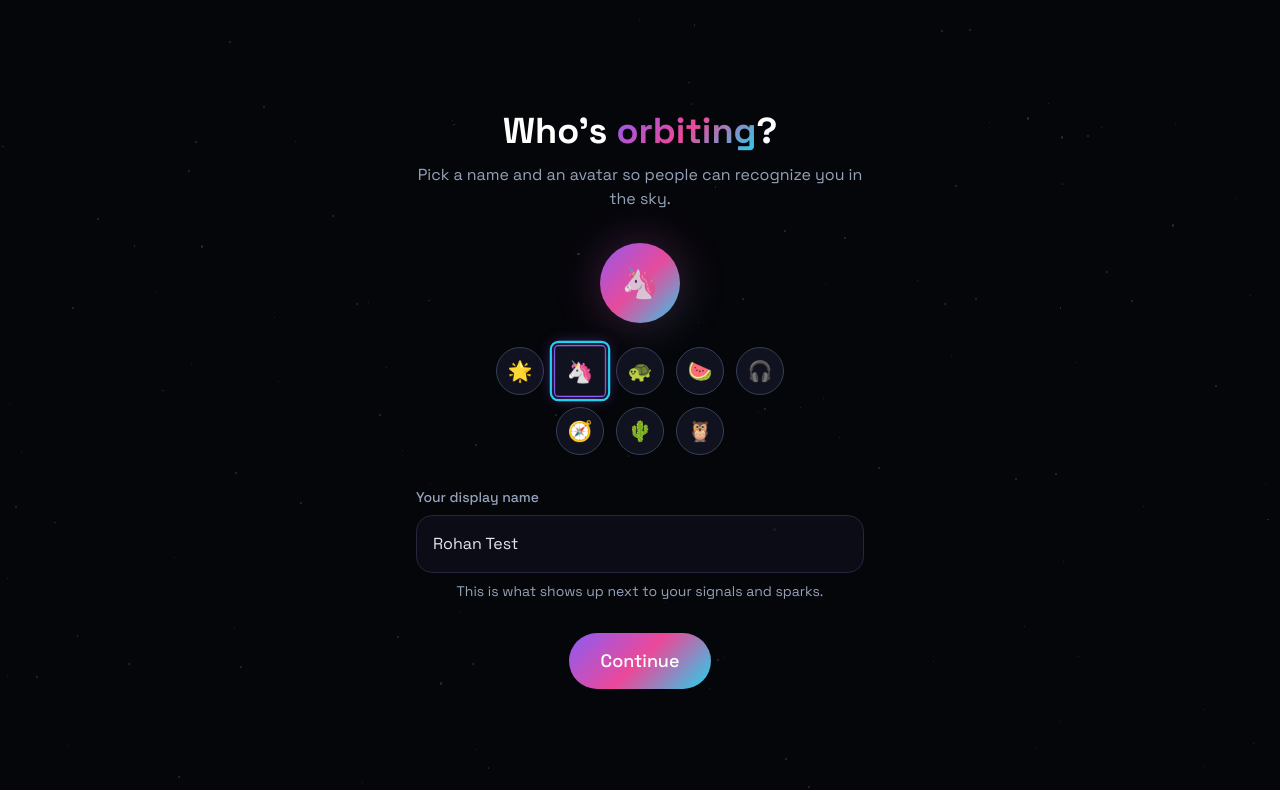
Test case: identity onboarding flow (real, executed run) › lets a person type their own name, pick an avatar, and see it reflected in Your Sky
Earlier steps of the test are not shown.
Click the button "Continue".
click(640, 661)  # box [569,633,711,689]
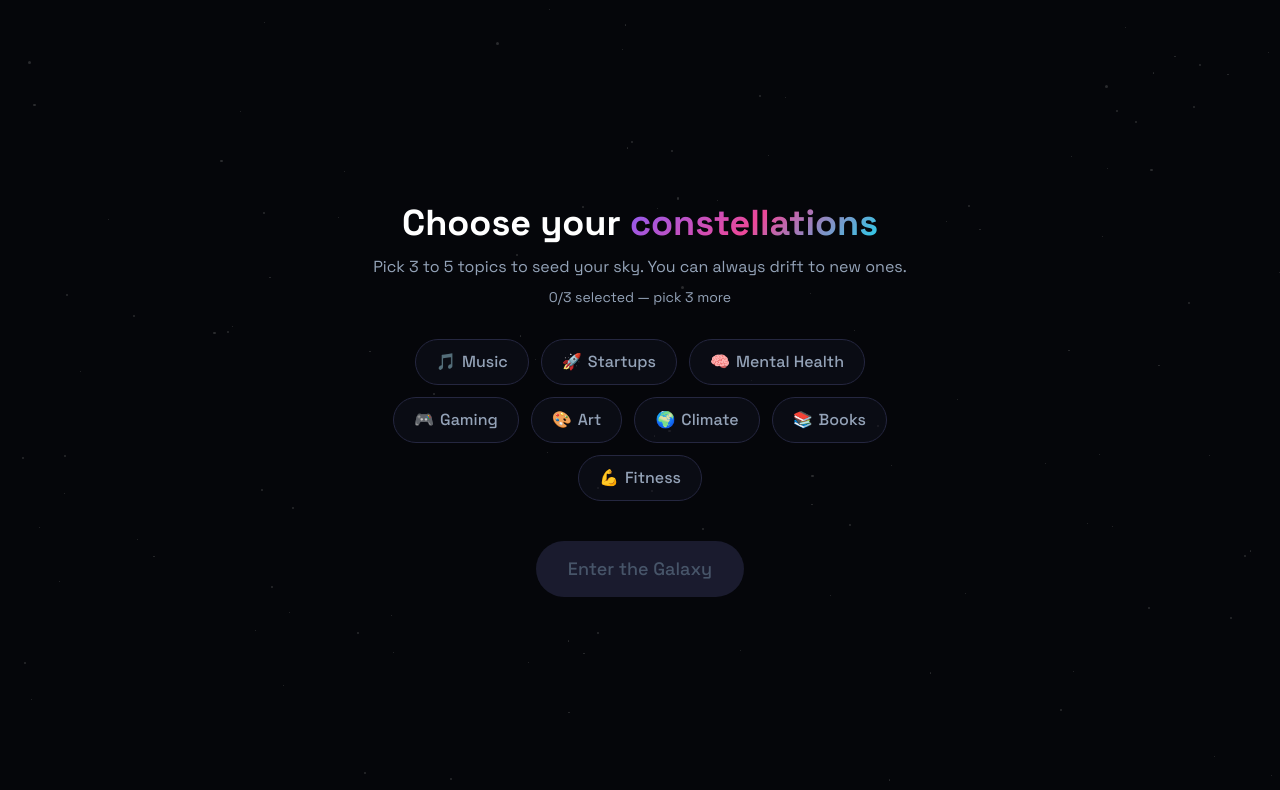
Click the button "🎵music".
click(472, 362)  # box [415,339,529,385]
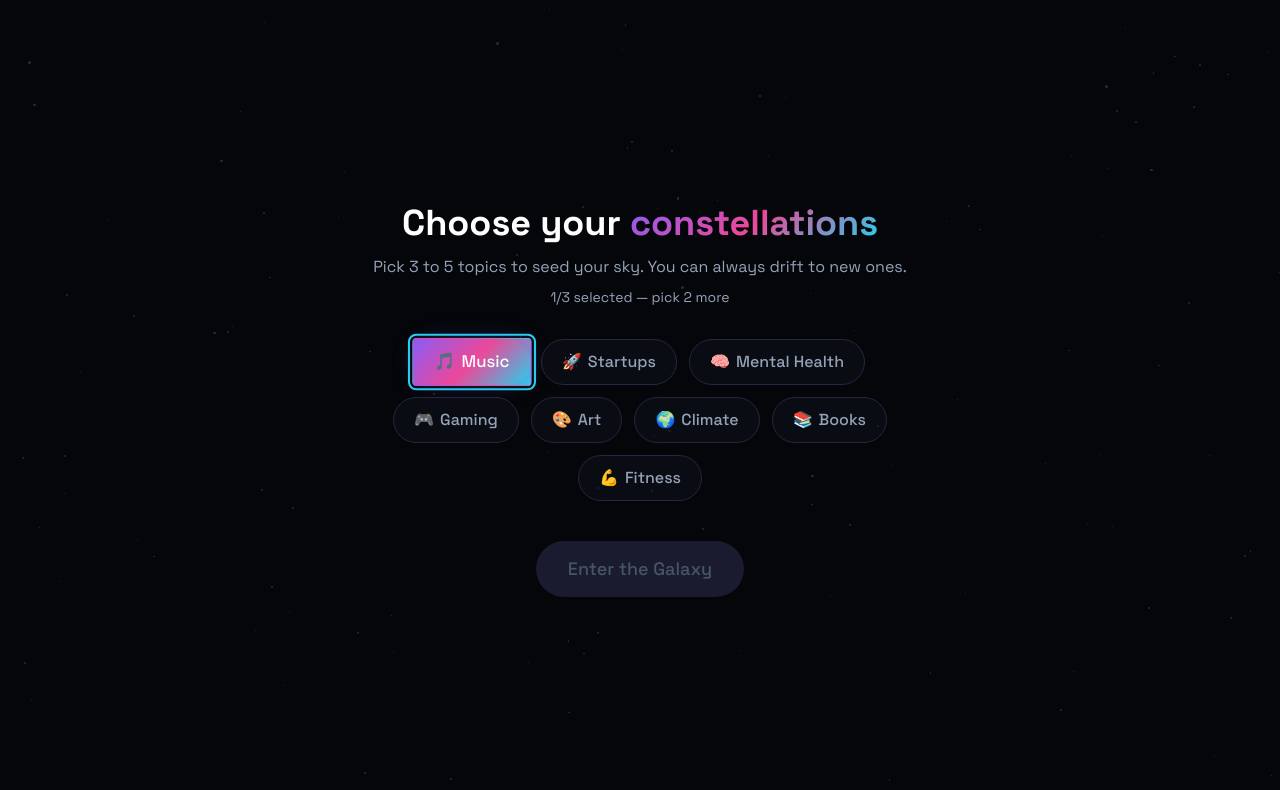
Click the button "🚀startups".
click(609, 362)  # box [541,339,677,385]
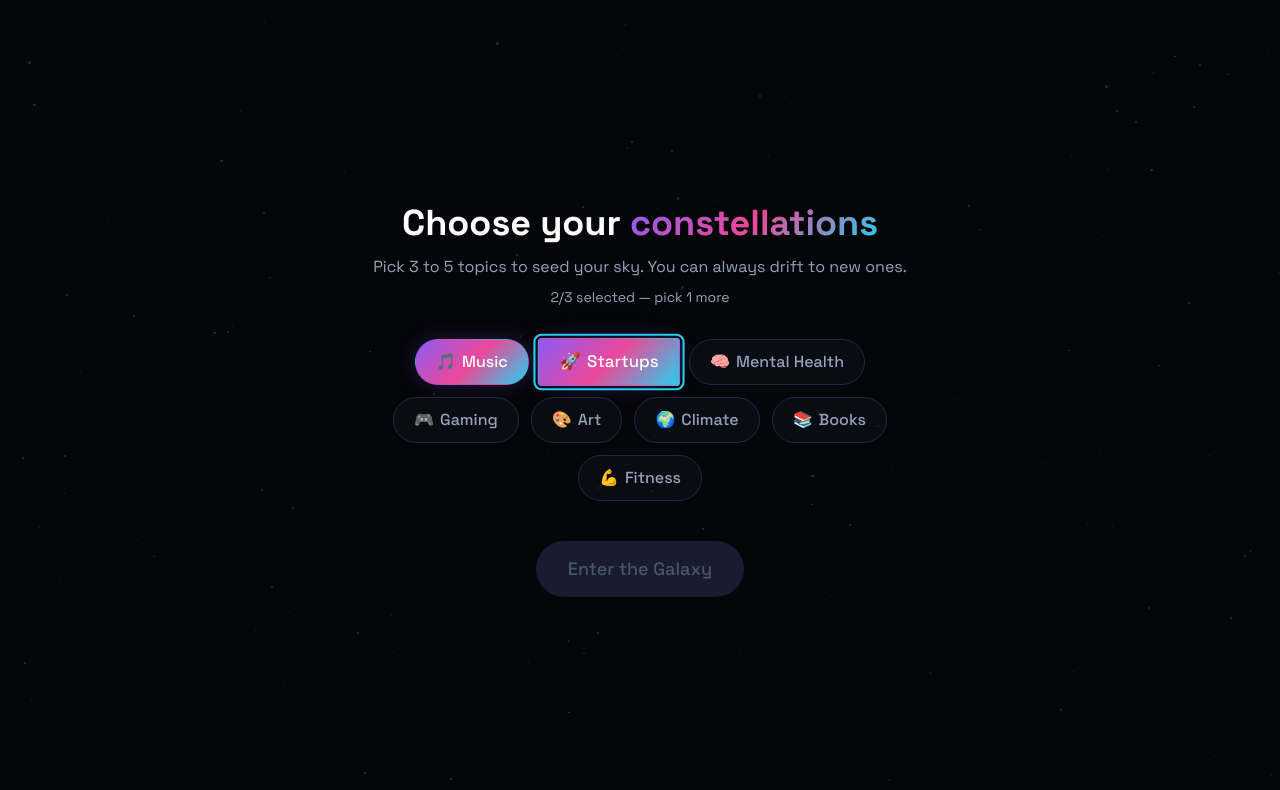
Click the button "🎮gaming".
click(456, 420)  # box [393,397,519,443]
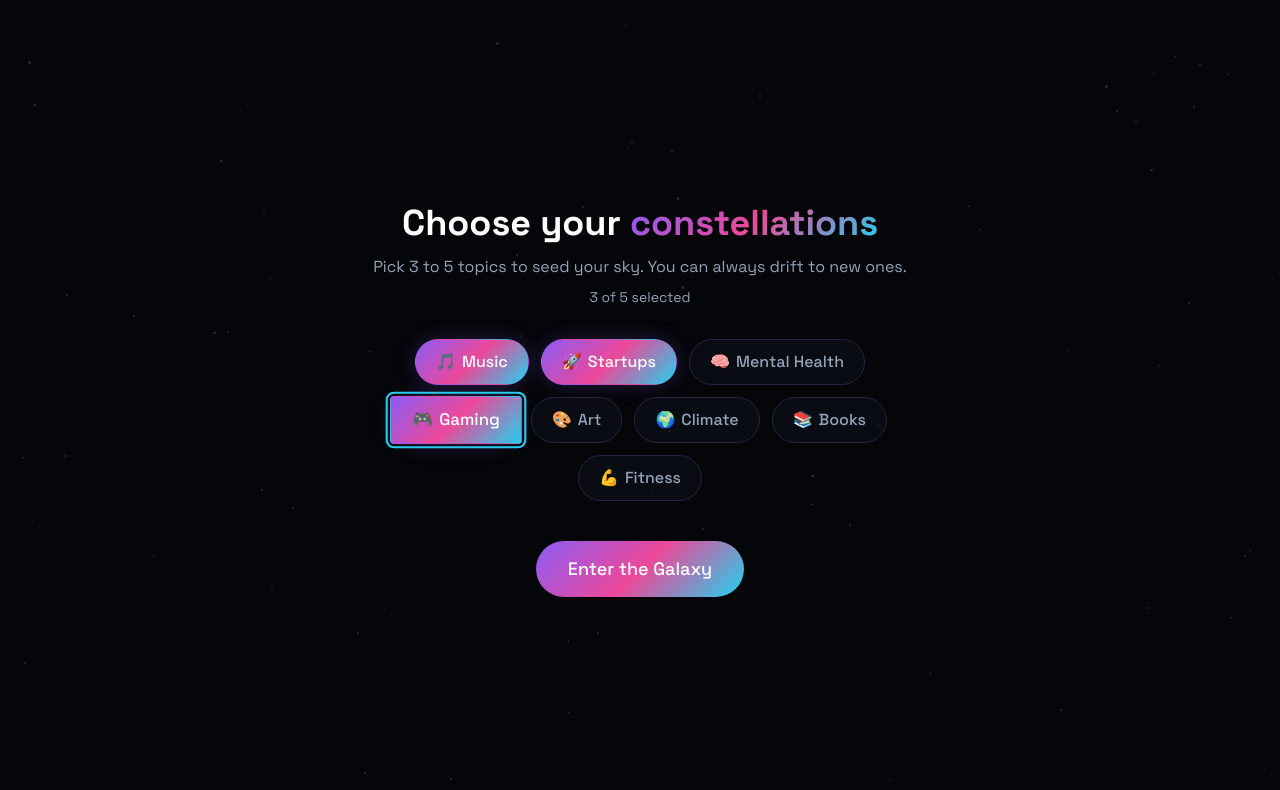
Click the button "Enter the Galaxy".
click(640, 569)  # box [536,541,744,597]
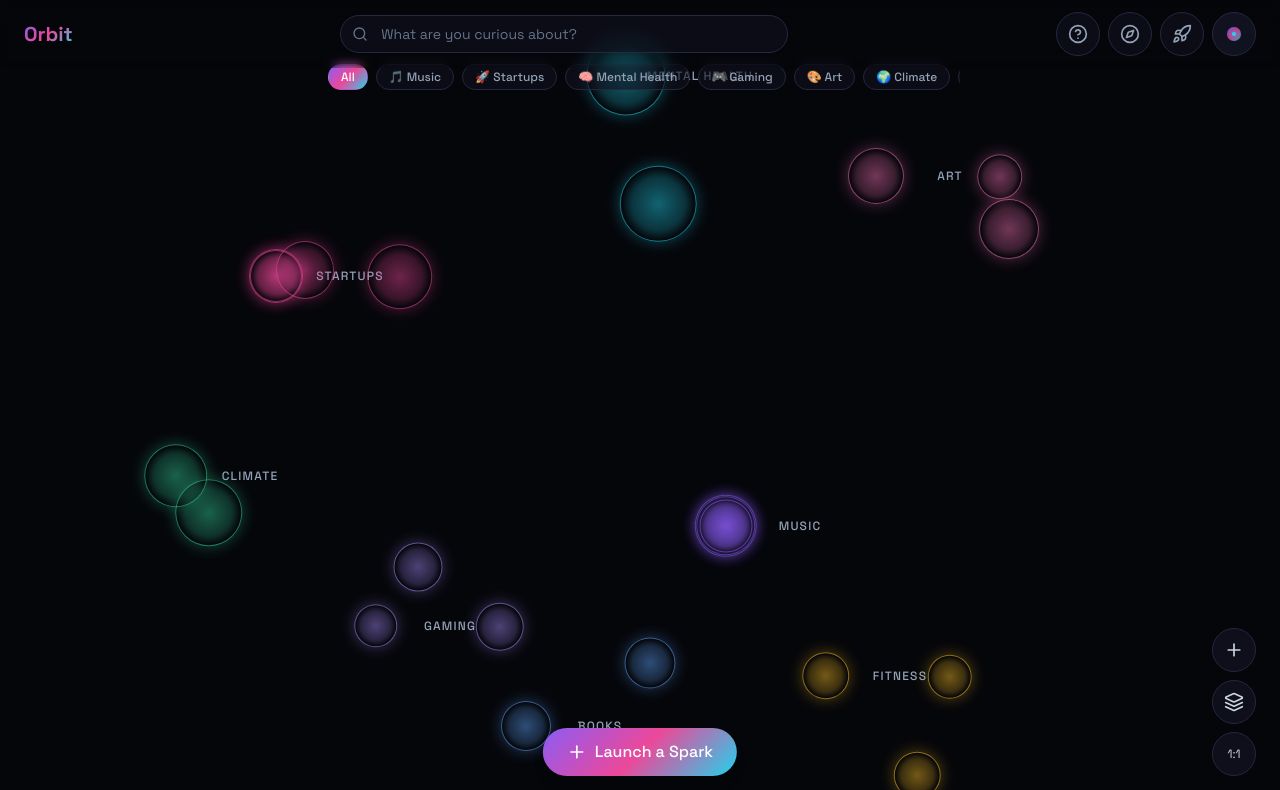
Click the button named "your sky".
click(1234, 34)  # box [1212,12,1256,56]
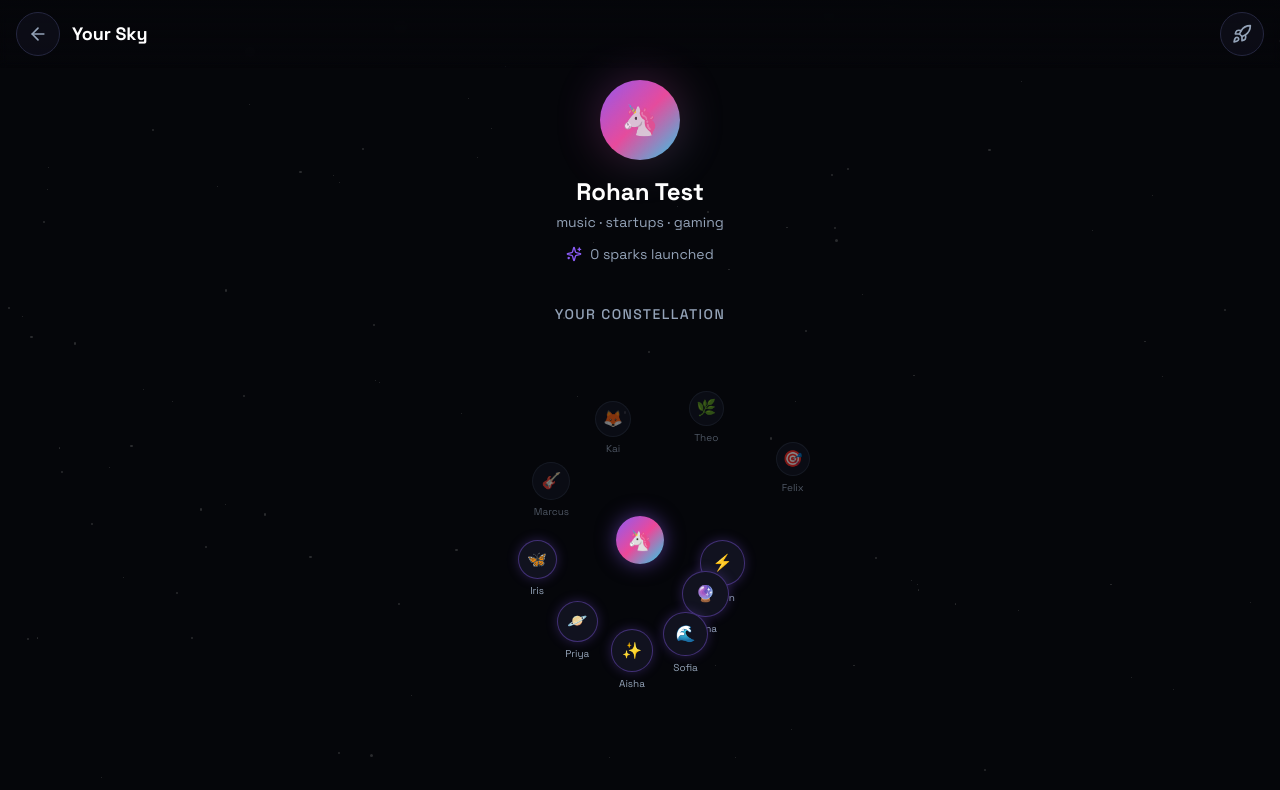
Check: the heading "Rohan Test" is shown, box [576,176,704,208]
